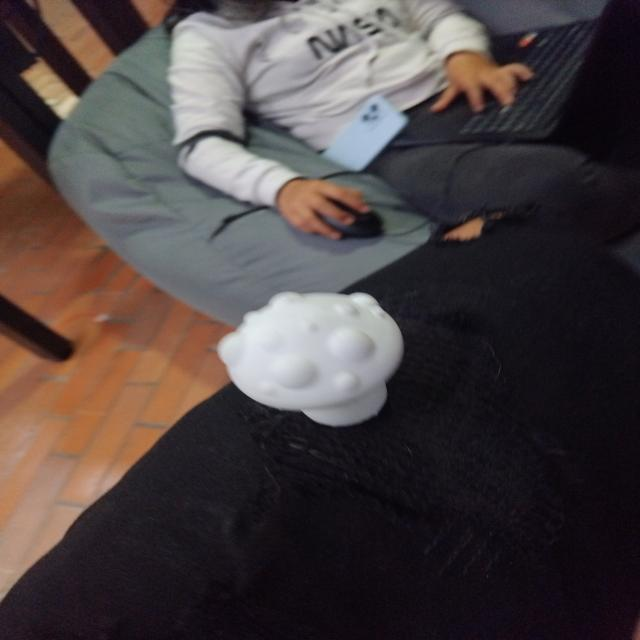Hongo: (204, 286, 420, 436)
